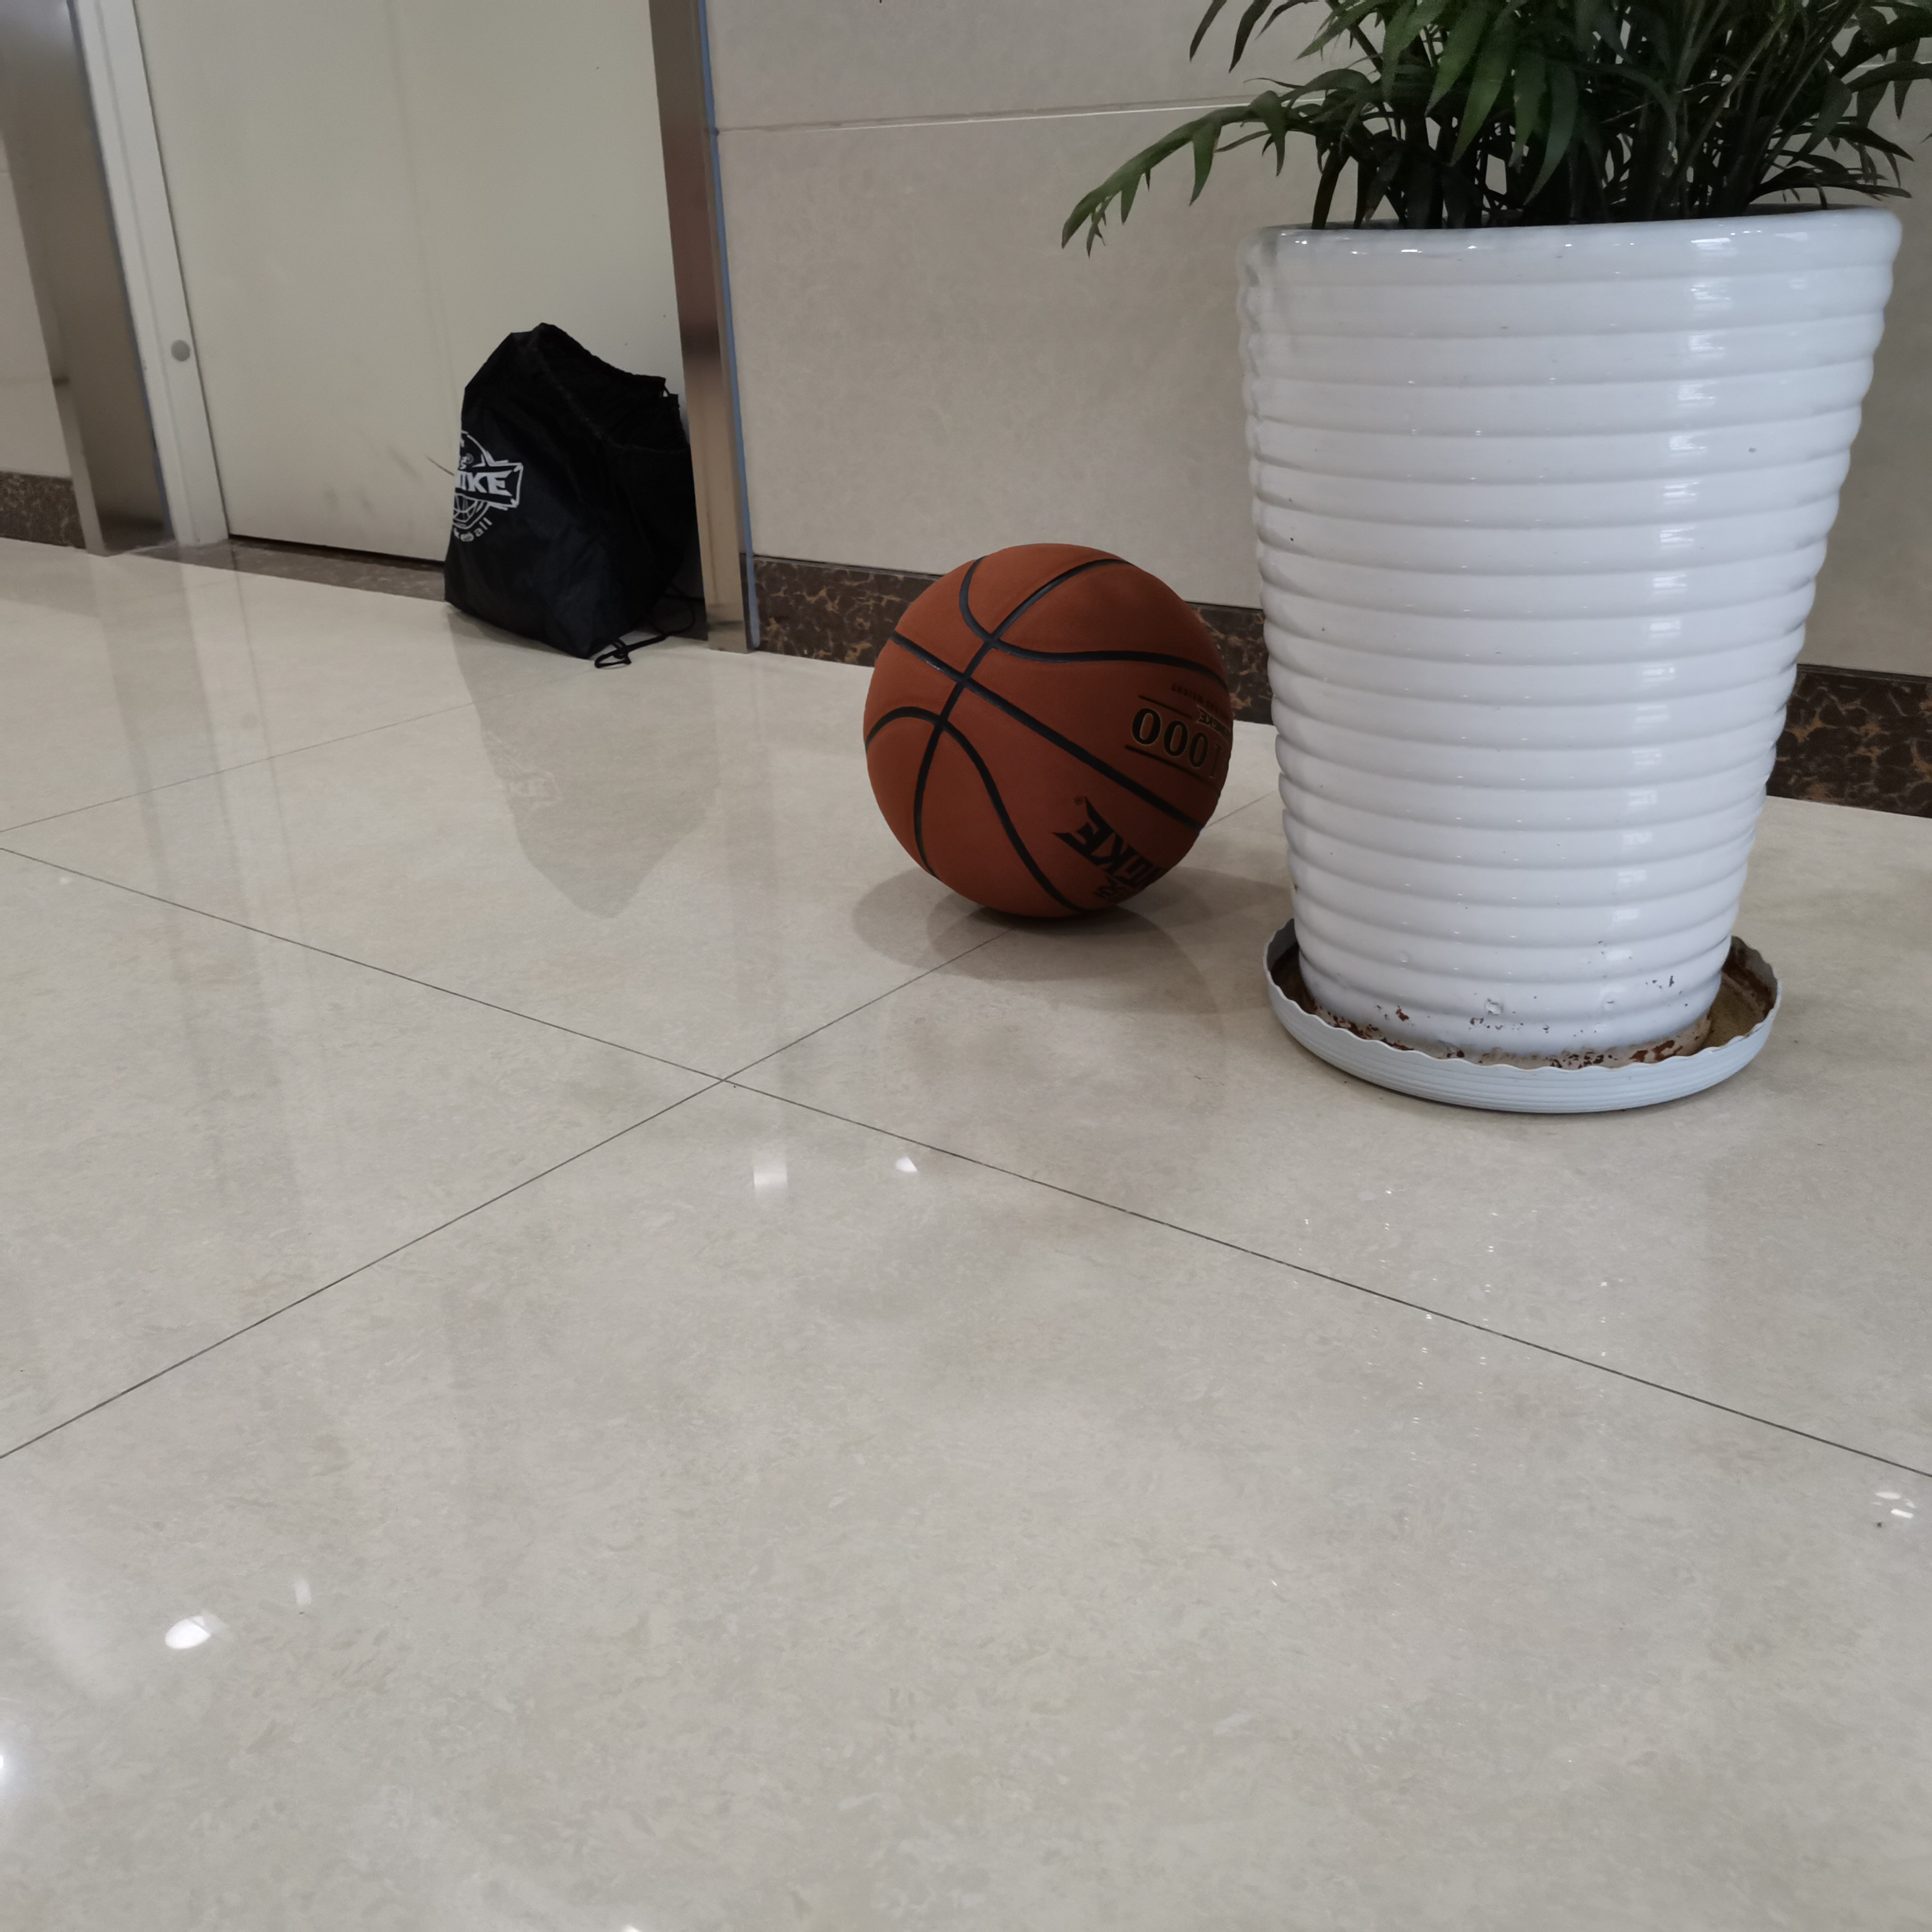basketball: (867, 541, 1235, 924)
